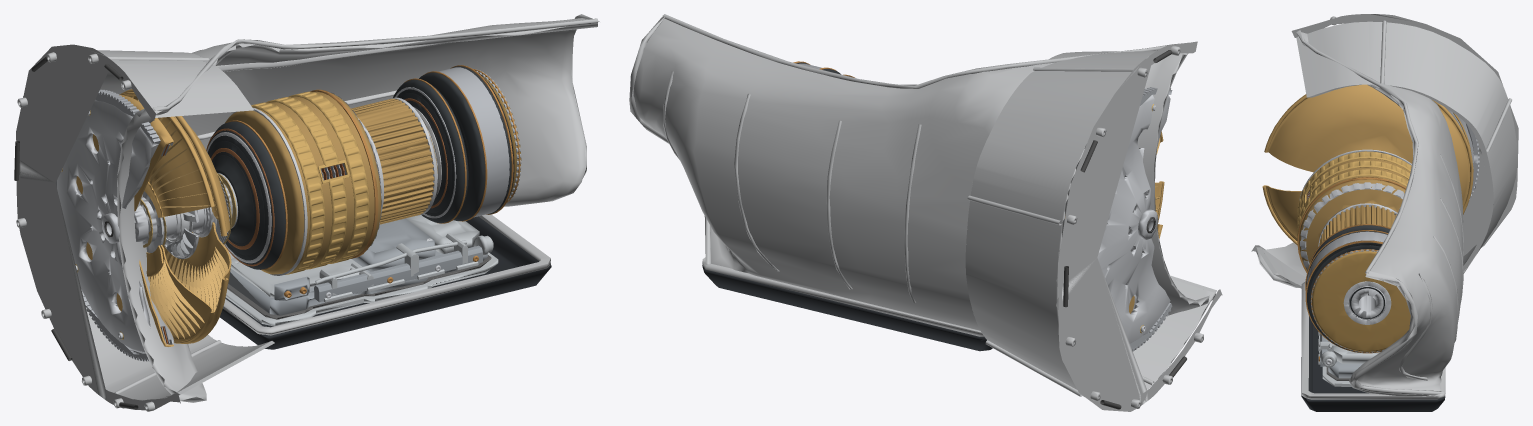
File: transmission.glb
3 renders of one model, left to right at view 1: azimuth 30°, elevation 25°; view 2: azimuth 150°, elevation 25°; view 3: azimuth 270°, elevation 25°, orthographic. The views are drawn at different scales.
Parts seen in each view (by area): view 1: housing_00_geometry, housing_02_geometry, clutch_14_geometry, converter_03_geometry, lower_18_geometry, front_01_geometry, drum_16_geometry, clutch_15_geometry, lower_17_geometry, gears_06_geometry, gears_04_geometry, gears_05_geometry; view 2: housing_00_geometry, housing_02_geometry, front_01_geometry, lower_17_geometry; view 3: housing_00_geometry, housing_02_geometry, converter_03_geometry, gears_05_geometry, clutch_14_geometry, lower_17_geometry, drum_16_geometry, lower_18_geometry, gears_06_geometry, front_01_geometry, gears_04_geometry.
Boxes of the visible parts, bbox=[...] form: housing_00_geometry: bbox=[117, 14, 599, 402]; housing_02_geometry: bbox=[14, 44, 274, 411]; clutch_14_geometry: bbox=[218, 89, 381, 275]; converter_03_geometry: bbox=[76, 89, 231, 346]; lower_18_geometry: bbox=[225, 215, 498, 326]; front_01_geometry: bbox=[55, 89, 160, 361]; drum_16_geometry: bbox=[351, 78, 468, 224]; clutch_15_geometry: bbox=[206, 120, 287, 269]; lower_17_geometry: bbox=[220, 216, 551, 349]; gears_06_geometry: bbox=[439, 67, 509, 217]; gears_04_geometry: bbox=[419, 71, 487, 221]; gears_05_geometry: bbox=[450, 65, 521, 214]; housing_00_geometry: bbox=[629, 14, 1215, 336]; housing_02_geometry: bbox=[965, 41, 1222, 411]; front_01_geometry: bbox=[1097, 87, 1172, 351]; lower_17_geometry: bbox=[702, 265, 992, 351]; housing_00_geometry: bbox=[1256, 30, 1463, 399]; housing_02_geometry: bbox=[1251, 14, 1518, 288]; converter_03_geometry: bbox=[1262, 84, 1473, 245]; gears_05_geometry: bbox=[1305, 240, 1410, 353]; clutch_14_geometry: bbox=[1297, 149, 1411, 272]; lower_17_geometry: bbox=[1301, 316, 1445, 411]; drum_16_geometry: bbox=[1308, 203, 1397, 268]; lower_18_geometry: bbox=[1318, 332, 1380, 386]; gears_06_geometry: bbox=[1307, 231, 1387, 283]; front_01_geometry: bbox=[1457, 116, 1479, 201]; gears_04_geometry: bbox=[1305, 229, 1388, 291].
Size of the model in its own units: 4.18 by 2.75 by 2.39.
